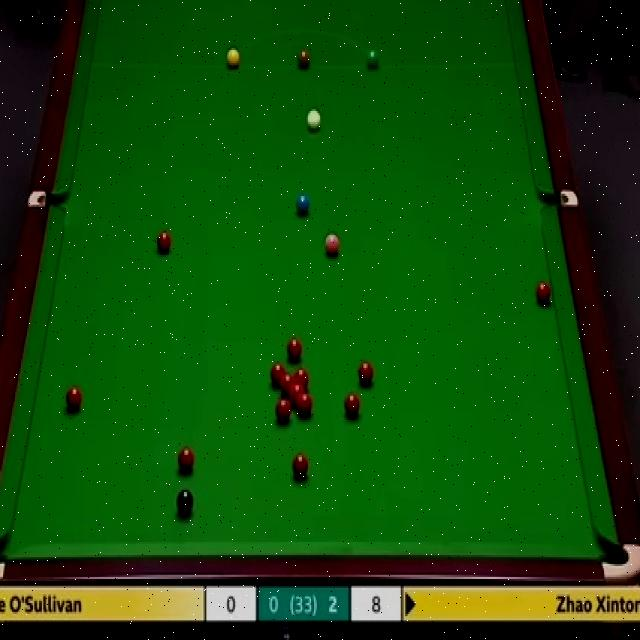black-ball: (177, 490, 194, 519)
blue-ball: (296, 191, 310, 217)
brown-ball: (298, 46, 310, 69)
green-ball: (366, 50, 380, 71)
pink-ball: (325, 232, 340, 256)
red-ball: (343, 391, 362, 421), (356, 359, 375, 388), (534, 278, 552, 307), (178, 446, 196, 473), (66, 383, 82, 412), (292, 452, 308, 481), (286, 337, 302, 364), (275, 397, 291, 424), (298, 392, 312, 417), (157, 229, 171, 253), (270, 362, 284, 386), (295, 368, 309, 390), (280, 373, 294, 394), (291, 384, 304, 404)
white-ball: (304, 102, 324, 135)
yellow-ball: (226, 48, 240, 71)
